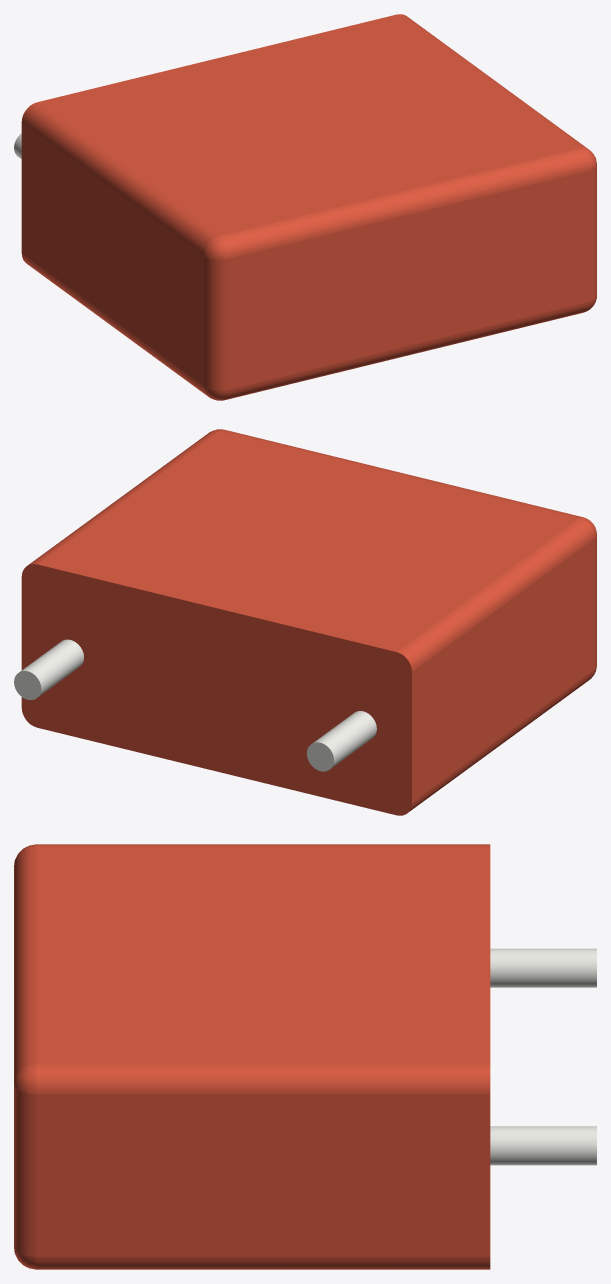
Rendered from C_Rect_L10.0mm_W4.0mm_P7.50mm_FKS3_FKP3.glb.
The picture shows the model from 3 angles, top to bottom: view 1: azimuth 30°, elevation 25°; view 2: azimuth 150°, elevation 25°; view 3: azimuth 270°, elevation 25°; orthographic projection. The views are drawn at different scales.
Parts seen in each view (by area): view 1: Shape_IndexedFaceSet.009, Shape_IndexedFaceSet.008, Shape_IndexedFaceSet, Shape_IndexedFaceSet.016, Shape_IndexedFaceSet.004, Shape_IndexedFaceSet.015, Shape_IndexedFaceSet.002, Shape_IndexedFaceSet.001, Shape_IndexedFaceSet.011, Shape_IndexedFaceSet.017; view 2: Shape_IndexedFaceSet.009, Shape_IndexedFaceSet.003, Shape_IndexedFaceSet, Shape_IndexedFaceSet.004, Shape_IndexedFaceSet.013, Shape_IndexedFaceSet.014, Shape_IndexedFaceSet.001, Shape_IndexedFaceSet.011, Shape_IndexedFaceSet.016, Shape_IndexedFaceSet.020, Shape_IndexedFaceSet.021; view 3: Shape_IndexedFaceSet.009, Shape_IndexedFaceSet.012, Shape_IndexedFaceSet.011, Shape_IndexedFaceSet.010, Shape_IndexedFaceSet.016, Shape_IndexedFaceSet.013, Shape_IndexedFaceSet.014, Shape_IndexedFaceSet.017, Shape_IndexedFaceSet.004, Shape_IndexedFaceSet.019.
Boxes of the visible parts, x1,y1,x2,y2 form: Shape_IndexedFaceSet.009: [37, 14, 578, 235]; Shape_IndexedFaceSet.008: [229, 171, 587, 389]; Shape_IndexedFaceSet: [21, 122, 204, 386]; Shape_IndexedFaceSet.016: [220, 148, 587, 258]; Shape_IndexedFaceSet.004: [21, 102, 219, 255]; Shape_IndexedFaceSet.015: [225, 302, 587, 399]; Shape_IndexedFaceSet.002: [204, 256, 228, 390]; Shape_IndexedFaceSet.001: [21, 253, 208, 396]; Shape_IndexedFaceSet.011: [397, 14, 587, 148]; Shape_IndexedFaceSet.017: [588, 166, 596, 301]; Shape_IndexedFaceSet.009: [37, 431, 578, 651]; Shape_IndexedFaceSet.003: [21, 564, 411, 815]; Shape_IndexedFaceSet: [412, 539, 594, 802]; Shape_IndexedFaceSet.004: [397, 518, 594, 671]; Shape_IndexedFaceSet.013: [312, 711, 376, 768]; Shape_IndexedFaceSet.014: [20, 639, 83, 696]; Shape_IndexedFaceSet.001: [408, 669, 594, 812]; Shape_IndexedFaceSet.011: [28, 430, 219, 565]; Shape_IndexedFaceSet.016: [220, 429, 582, 518]; Shape_IndexedFaceSet.020: [306, 742, 333, 771]; Shape_IndexedFaceSet.021: [14, 671, 41, 699]; Shape_IndexedFaceSet.009: [36, 846, 490, 1064]; Shape_IndexedFaceSet.012: [36, 1094, 490, 1256]; Shape_IndexedFaceSet.011: [36, 1064, 490, 1094]; Shape_IndexedFaceSet.010: [36, 1256, 490, 1269]; Shape_IndexedFaceSet.016: [14, 846, 36, 1082]; Shape_IndexedFaceSet.013: [490, 948, 596, 987]; Shape_IndexedFaceSet.014: [490, 1126, 596, 1165]; Shape_IndexedFaceSet.017: [14, 1085, 36, 1256]; Shape_IndexedFaceSet.004: [36, 844, 490, 846]; Shape_IndexedFaceSet.019: [14, 1064, 36, 1093].
Size of the model in its own units: 3.94 by 1.57 by 4.09.
